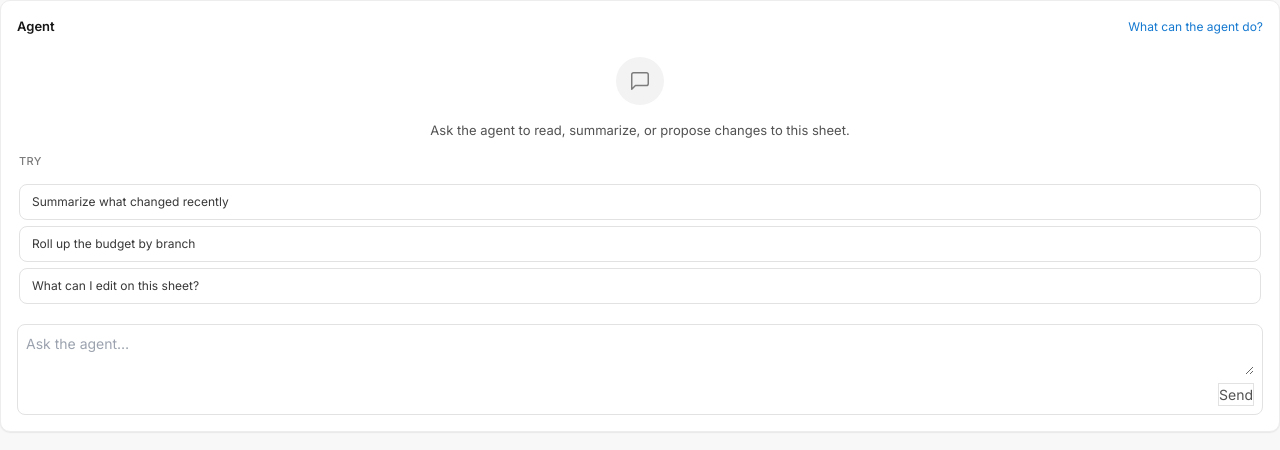
Test case: AgentSidebar (thin shell) › shows a suggested-prompt empty state that seeds the composer without auto-sending (UX)
Expected: the element with test id "agent-empty" is shown, [17,48,1263,312]
Step 1. Click the button with test id "agent-suggestion" that starts with "Summarize what changed recently" → (130, 201), box [19,184,1261,220]
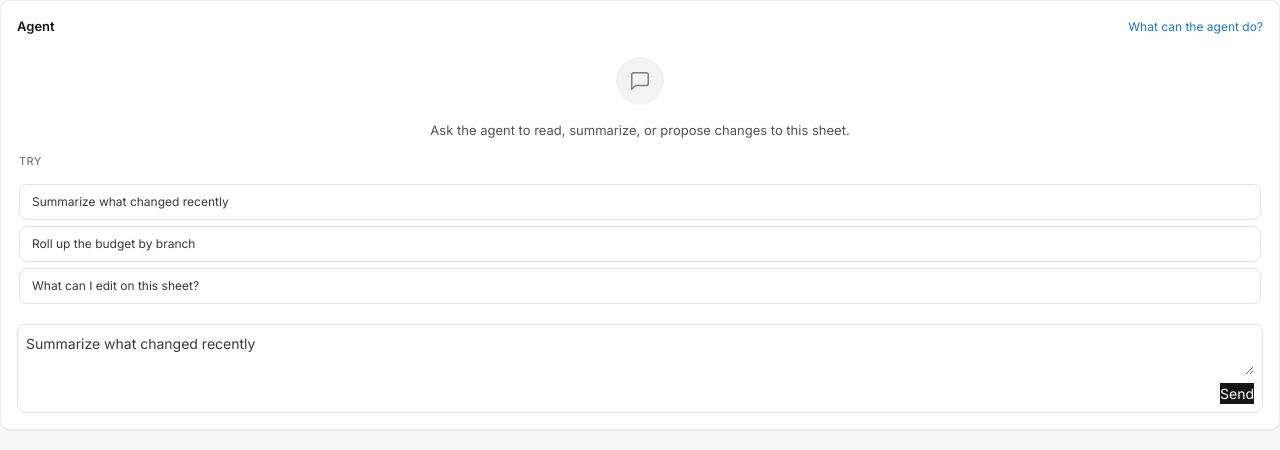
Expected: the text box with test id "agent-input" holds "Summarize what changed recently", [26,333,1254,375]
